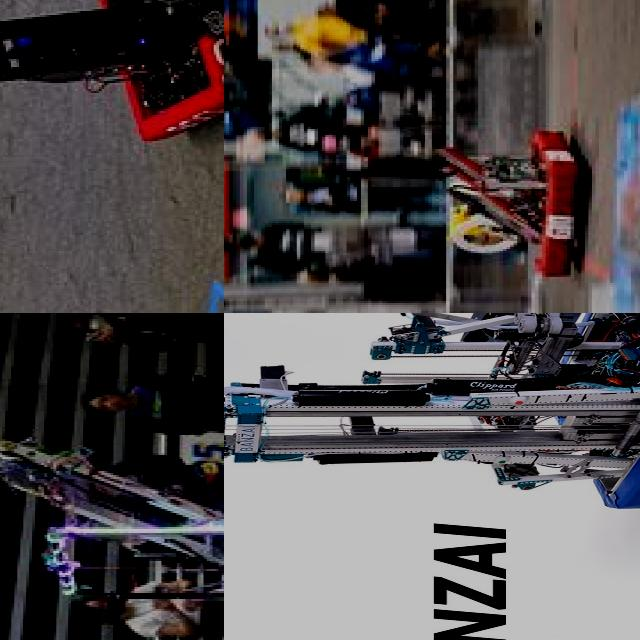FRC-Robots: (224, 313, 640, 541), (0, 386, 224, 640), (0, 0, 224, 176), (432, 110, 594, 286)
